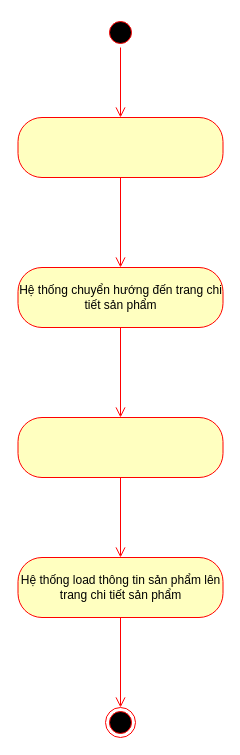
Some shapes in this 240 by 755 pixel diagram are drawn without their labels. The shapes that lost their labels are listed below. From the top down, each one's centre as x and y in pixels, then its label:
At (x=120, y=147): "Khách hàng chọn sản phẩm".
At (x=120, y=447): "Hệ thống truy vấn CSDL và lấy thông tin sản phẩm khách hàng chọn".
